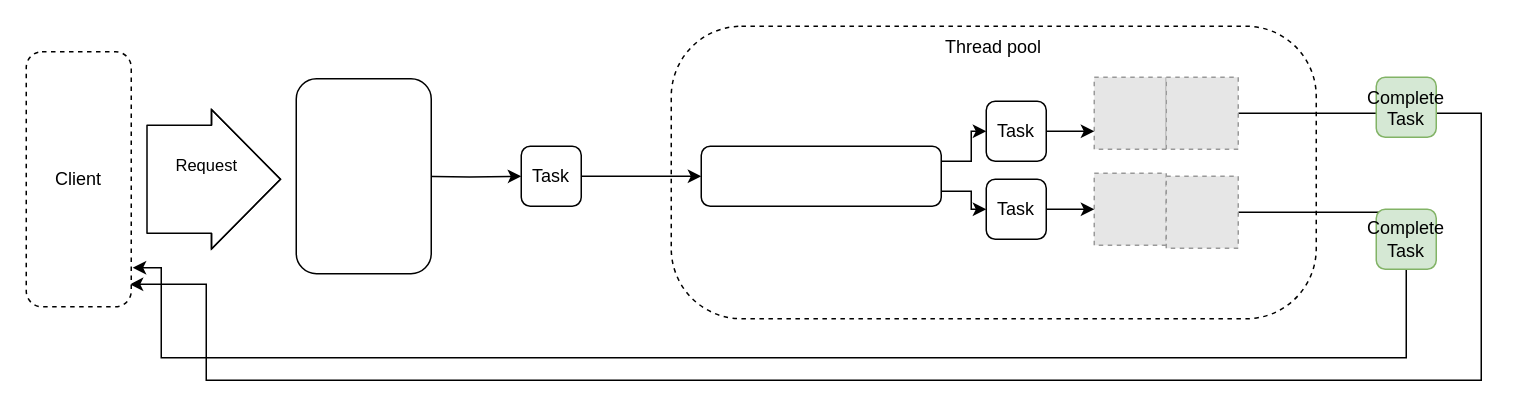
Some shapes in this 1520 by 419 pixel diagram are drawn without their labels. Grey dashed boxes stand in for pictures. Here are the shapes that lost their labels. From the top down, the centre of each, then its label:
At (363,175): "Listener socket".
At (820,175): "Task queue".
